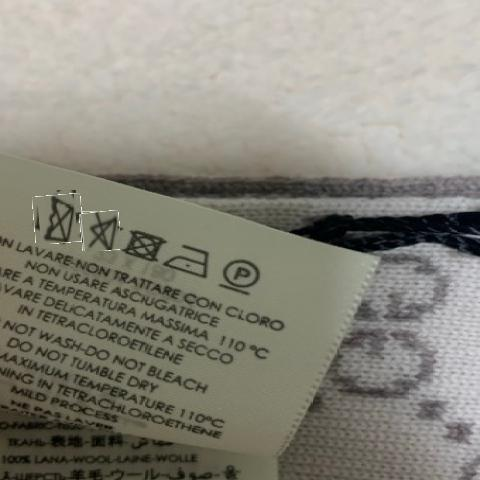DN_bleach: (87, 209, 120, 254)
DN_tumble_dry: (124, 228, 167, 264)
DN_wash: (37, 194, 77, 246)
dry_clean_any_solvent_except_trichloroethylene: (218, 255, 262, 295)
iron_low: (167, 242, 217, 278)
